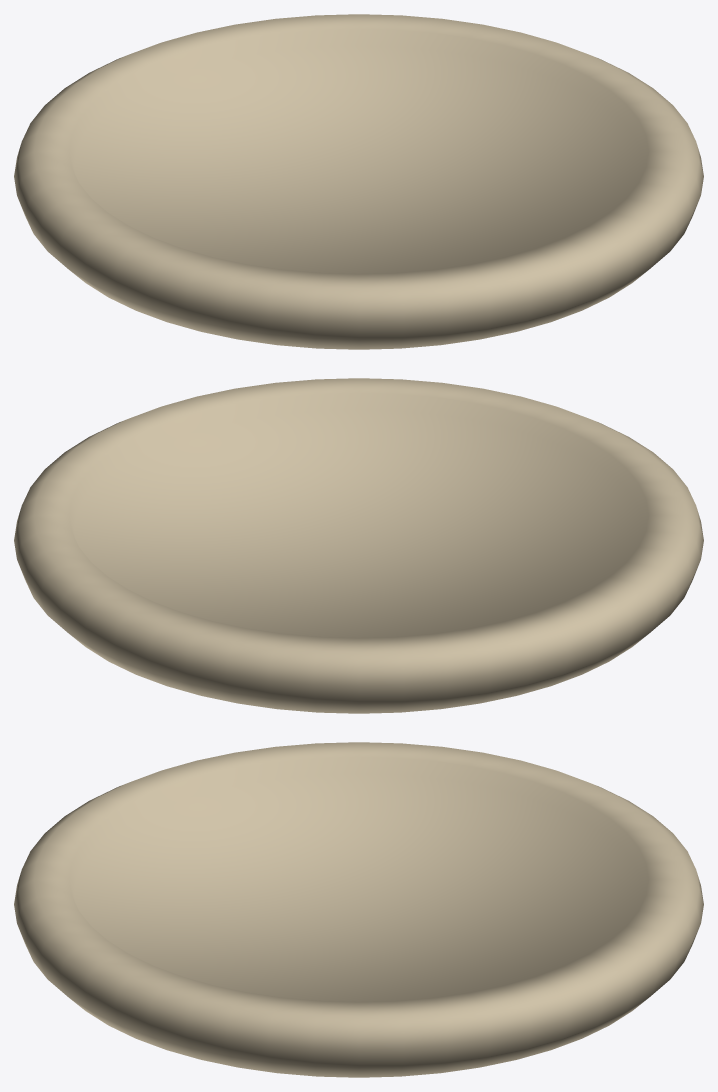
Rendered from board_token_atelier.glb.
3 renders of one model, top to bottom at view 1: azimuth 30°, elevation 25°; view 2: azimuth 150°, elevation 25°; view 3: azimuth 270°, elevation 25°, orthographic.
Parts seen in each view (by area): view 1: board_token_atelier__Painted_BoardToken_Glaze; view 2: board_token_atelier__Painted_BoardToken_Glaze; view 3: board_token_atelier__Painted_BoardToken_Glaze.
Boxes of the visible parts, left/top/right/bottom form: board_token_atelier__Painted_BoardToken_Glaze: left=14, top=14, right=703, bottom=349; board_token_atelier__Painted_BoardToken_Glaze: left=14, top=378, right=703, bottom=713; board_token_atelier__Painted_BoardToken_Glaze: left=14, top=742, right=703, bottom=1077.
Size of the model in its own units: 2.12 by 0.22 by 2.12.
